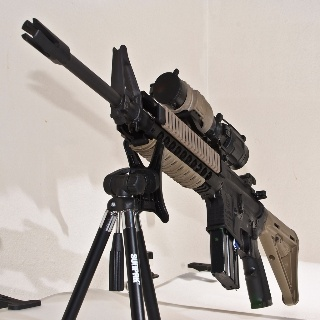rifle: (19, 16, 301, 307)
